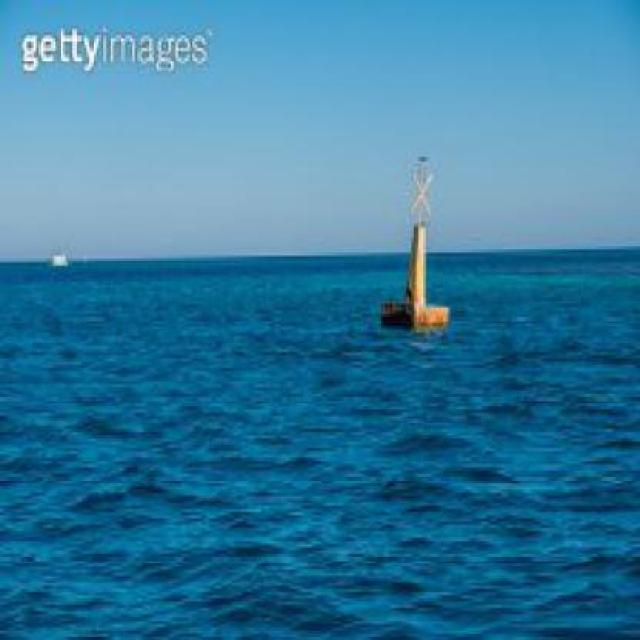buoy: (362, 145, 468, 340)
